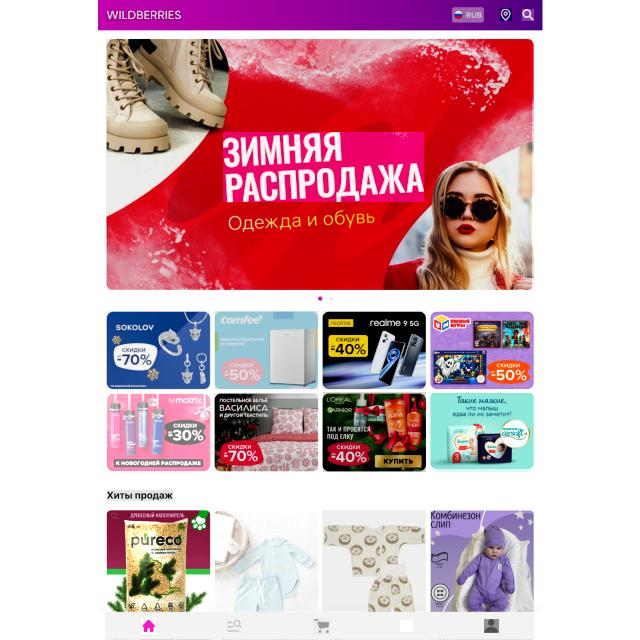CheckBox: (452, 7, 484, 23)
bag: (98, 0, 542, 30)
breadcrumbs: (107, 490, 173, 501)
card: (106, 39, 532, 290)
carousel: (313, 618, 330, 634), (226, 618, 242, 634), (141, 618, 156, 634), (484, 619, 499, 633), (500, 8, 512, 21), (400, 620, 413, 632), (522, 9, 534, 21)
copy: (106, 510, 210, 612), (214, 510, 318, 612), (430, 510, 534, 612), (322, 510, 426, 611), (323, 392, 426, 472), (106, 393, 210, 472), (322, 311, 427, 389), (106, 311, 210, 389), (214, 393, 318, 471), (430, 394, 534, 472), (215, 311, 318, 389), (431, 311, 534, 389)
date picker: (106, 10, 182, 21)
decoration: (105, 612, 534, 640)
dropdown: (314, 294, 345, 302)
image: (223, 132, 424, 202)
